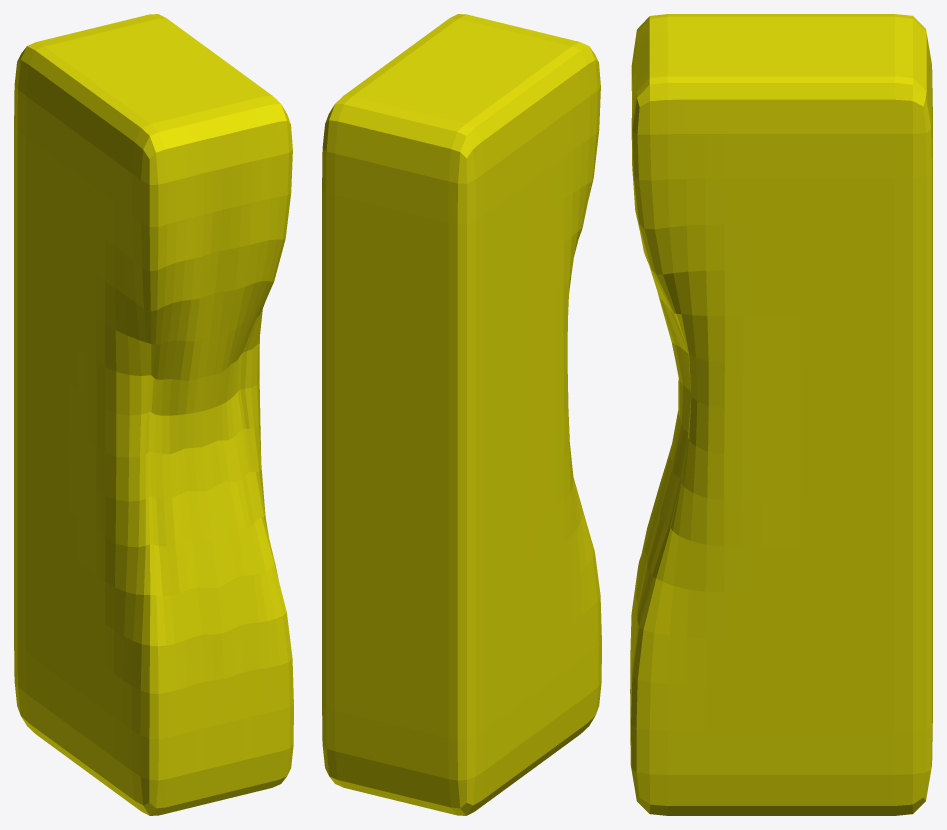
File: wall_game_2.fbx
3 views of the same model, side by side, from view 1: azimuth 30°, elevation 25°; view 2: azimuth 150°, elevation 25°; view 3: azimuth 270°, elevation 25° (orthographic). The views are drawn at different scales.
Visible parts, largest first — view 1: Cube; view 2: Cube; view 3: Cube.
Part boxes in pixels (x1=…): Cube: x1=14, y1=14, x2=293, y2=815; Cube: x1=322, y1=14, x2=601, y2=815; Cube: x1=630, y1=14, x2=932, y2=815.
Size of the model in its own units: 201 by 868 by 323.
